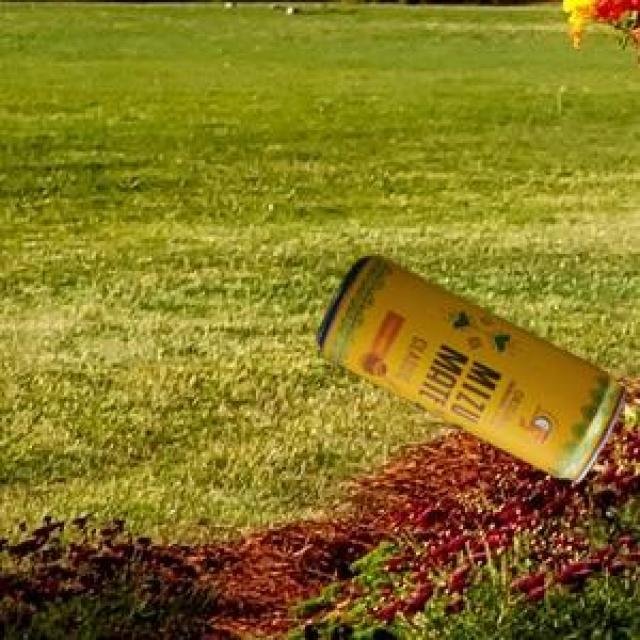logam: (315, 253, 622, 479)
